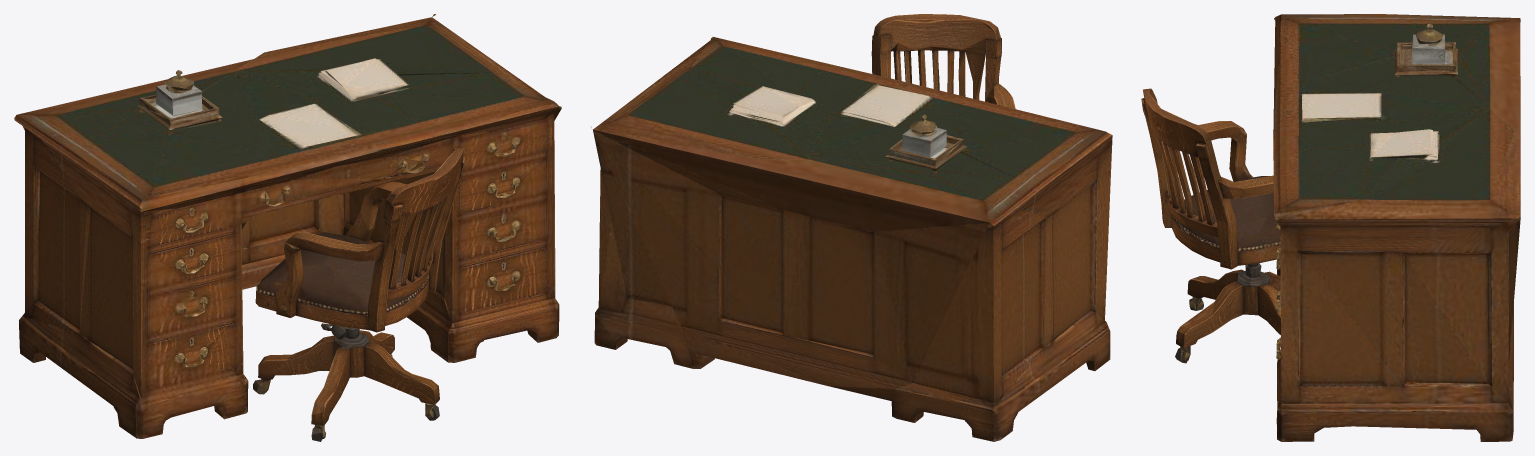
The model's file is desk.glb.
The picture shows the model from 3 angles, left to right: view 1: azimuth 30°, elevation 25°; view 2: azimuth 150°, elevation 25°; view 3: azimuth 270°, elevation 25°; orthographic projection. The views are drawn at different scales.
Parts seen in each view (by area): view 1: Mesh_0; view 2: Mesh_0; view 3: Mesh_0.
Boxes of the visible parts, x1,y1,x2,y2 form: Mesh_0: [14, 14, 561, 441]; Mesh_0: [591, 14, 1112, 441]; Mesh_0: [1141, 14, 1520, 441].
Bounding box in the file's own units: 1.89 × 1.22 × 1.51.
1 material, 1 textured.
